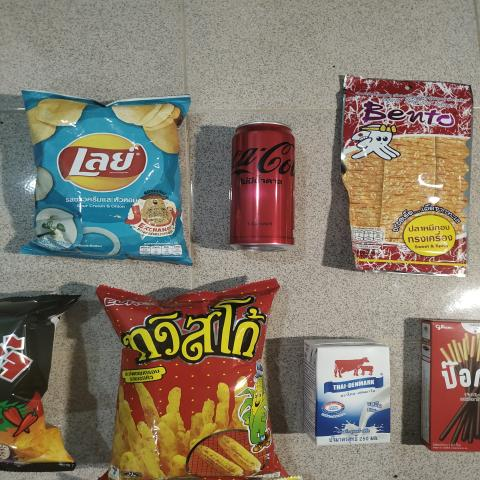bento_red: (337, 79, 473, 279)
coke_red: (231, 118, 296, 258)
lay_blue: (32, 97, 188, 242)
pokki: (427, 323, 480, 443)
thai_denmark: (308, 340, 396, 450)
twisco: (116, 291, 268, 480)
